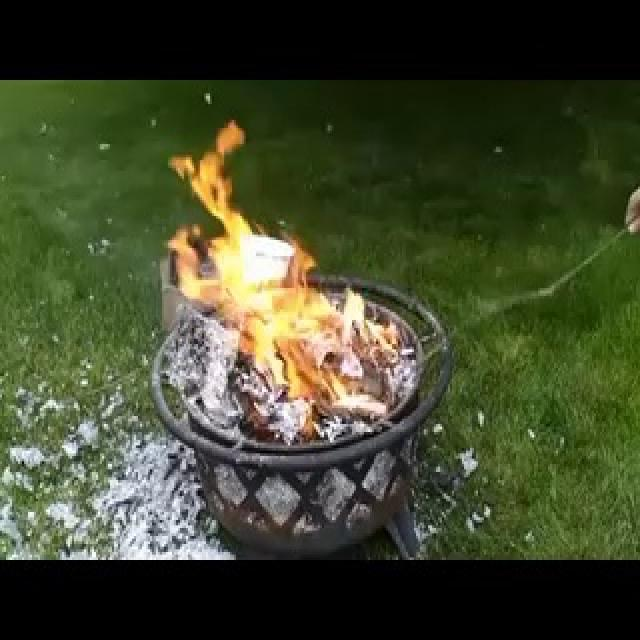fire: (117, 109, 403, 419)
